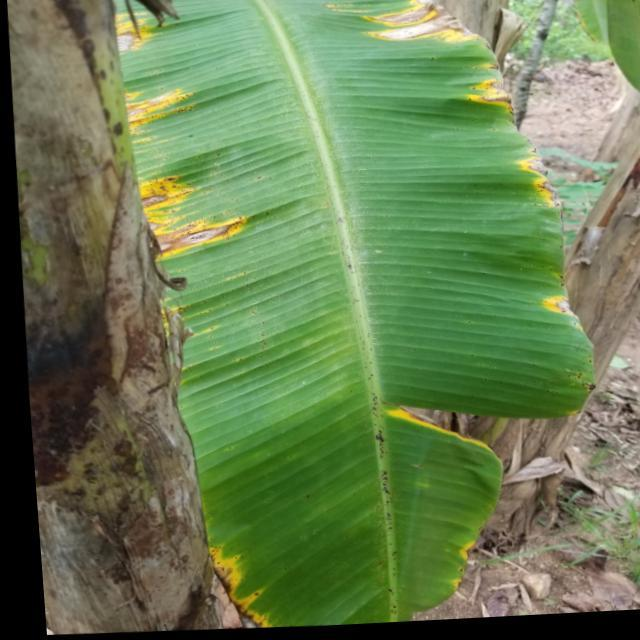Early_rust: (340, 0, 592, 356), (324, 373, 528, 639), (100, 0, 263, 277), (202, 501, 293, 640)
